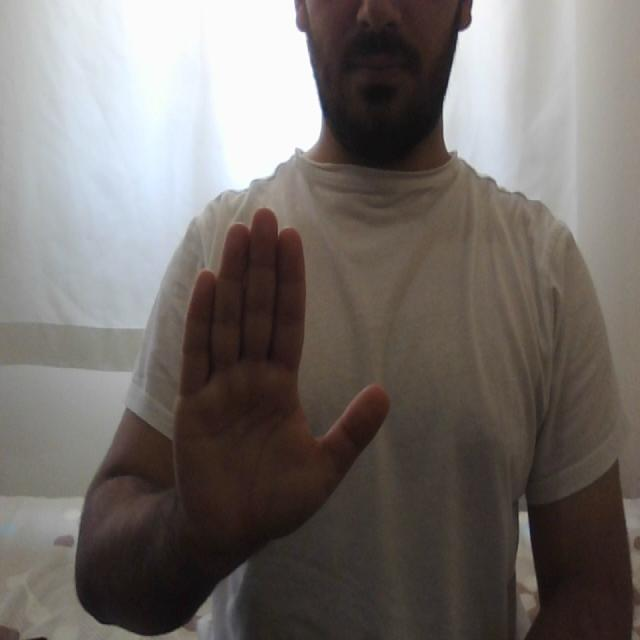Dur: (163, 190, 394, 569)
